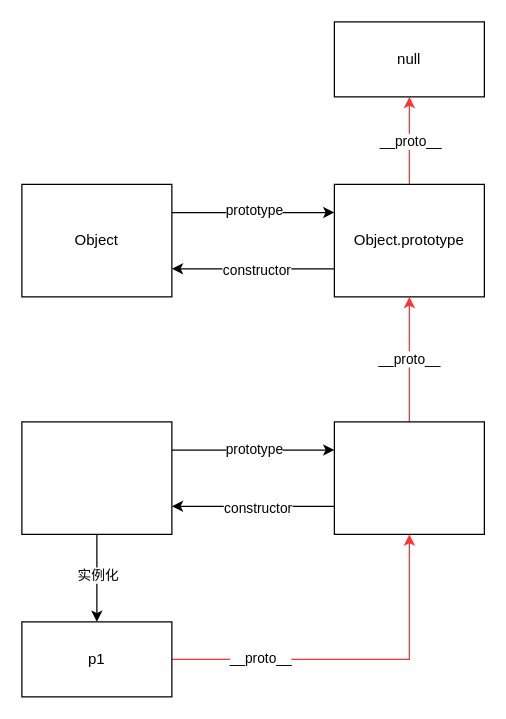
This 506x719 diagram has some shape labels left out. The shapes that lost their labels are listed below. From the top down, each one's centre as x and y in pixels, then its label:
At [96,477]: "Person".
At [408,477]: "Person.prototype".
